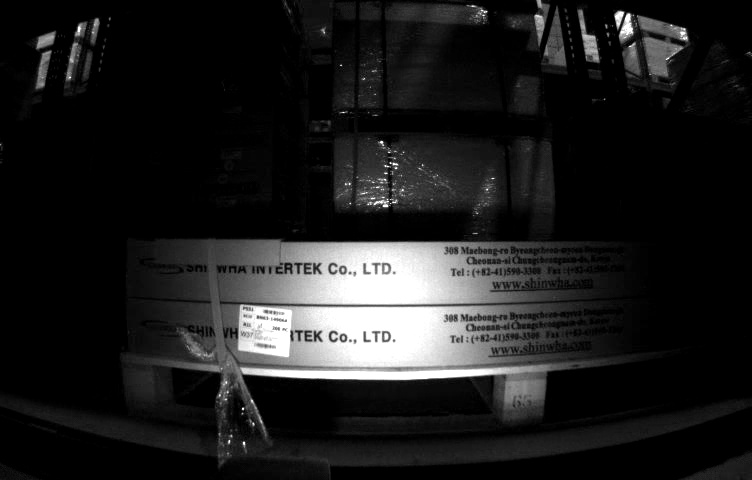True Barcode: (238, 302, 290, 357)
